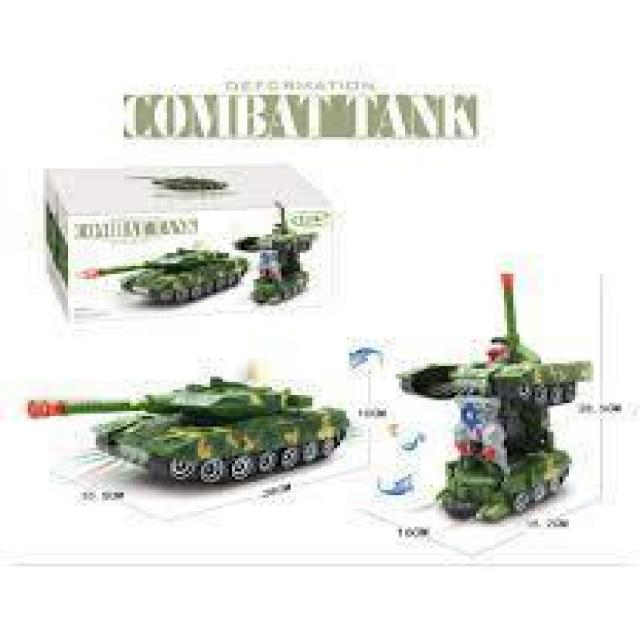Tanks: (396, 262, 600, 568), (23, 358, 351, 495), (77, 242, 250, 308), (253, 207, 316, 307)
